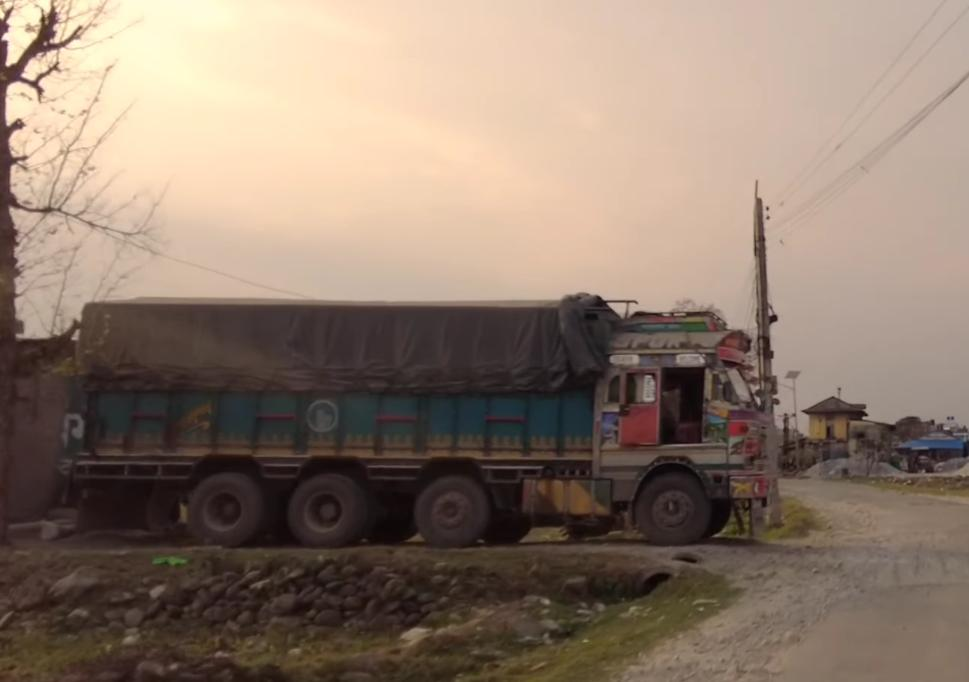truck: (58, 291, 783, 548)
